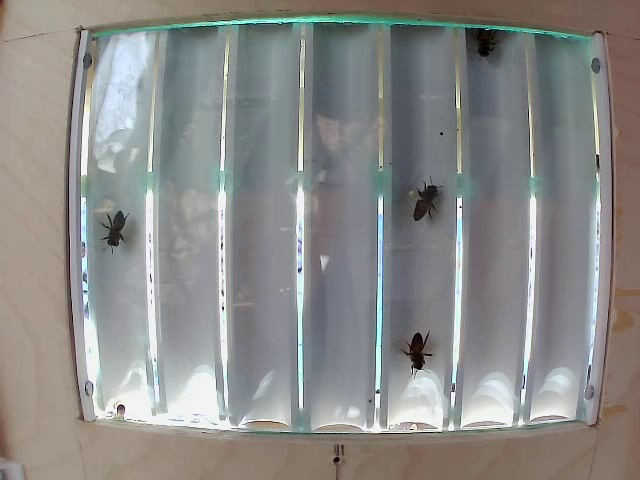bee: (95, 202, 144, 252), (418, 176, 454, 231), (396, 315, 432, 369), (469, 23, 508, 58)
